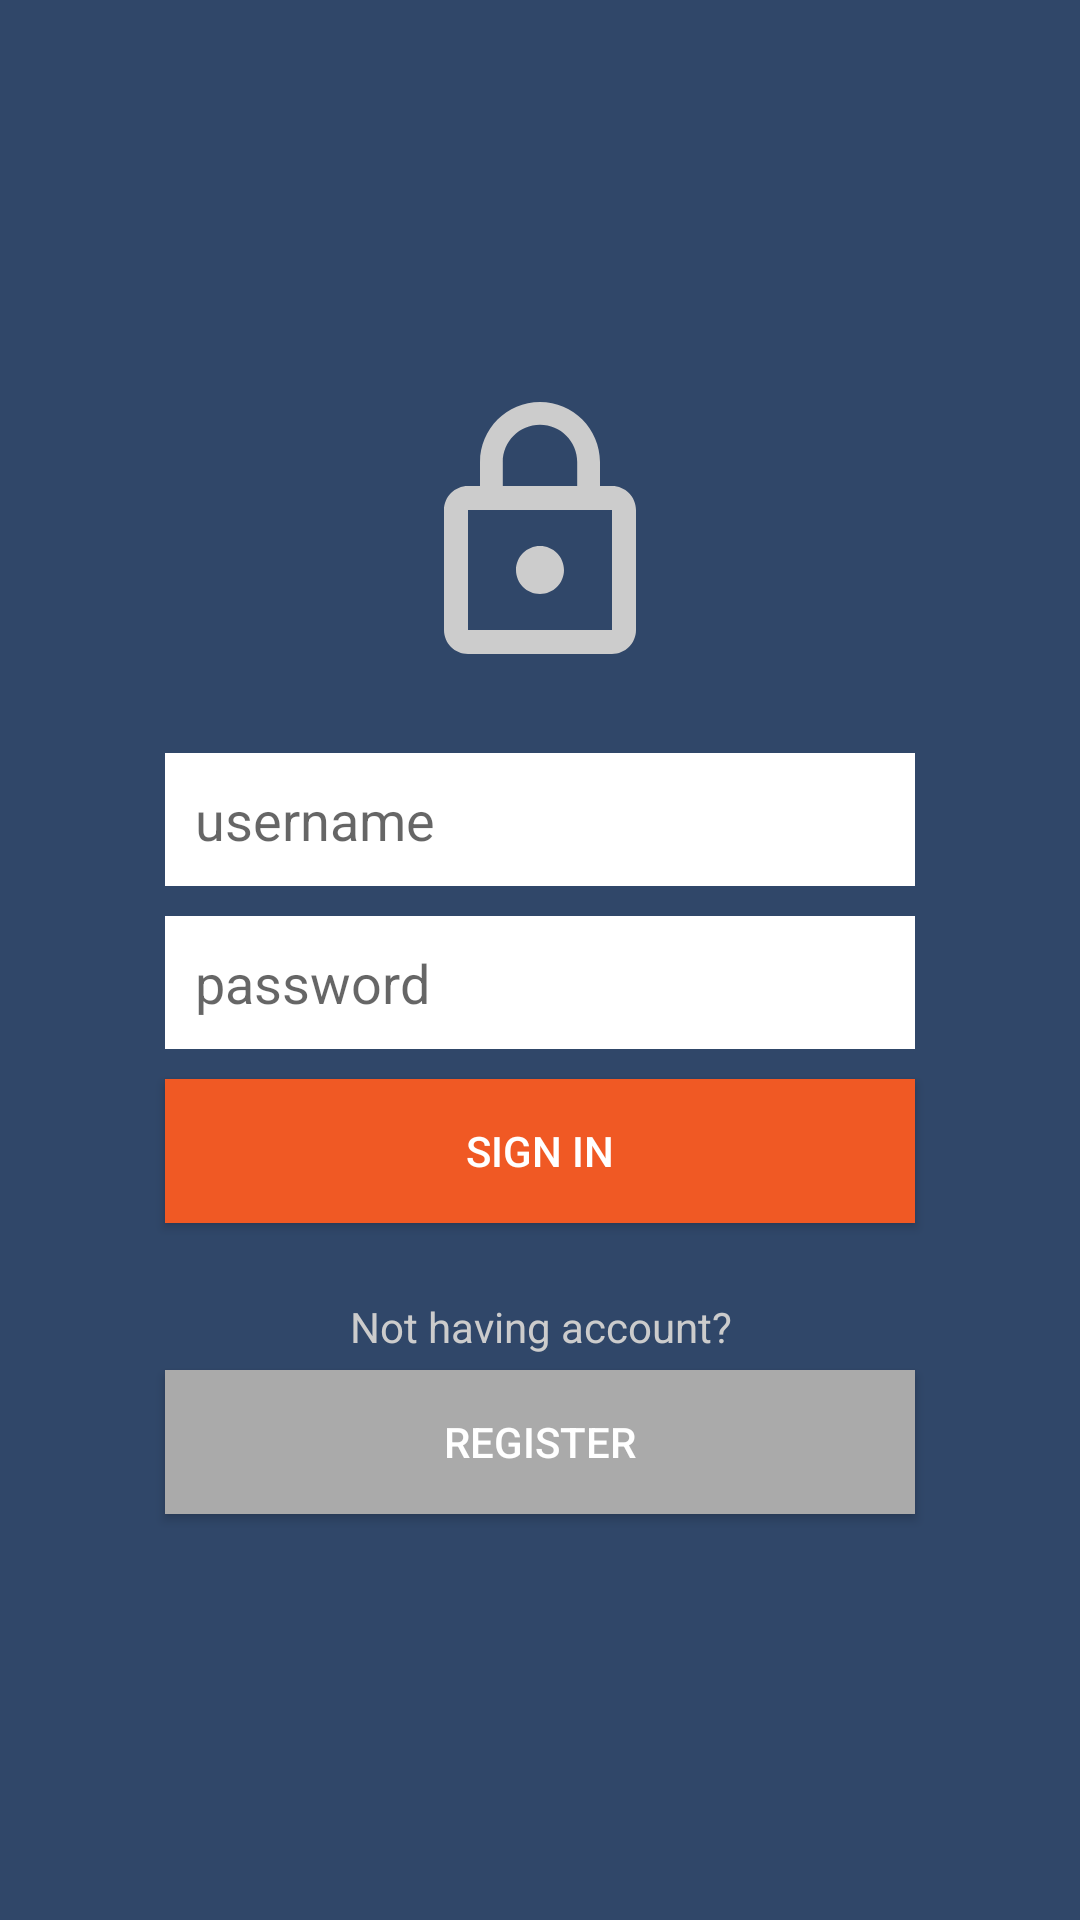

Where to tap for icons on this 1080w x 1920h app screen, as (x=x, y=y):
lock: (x=540, y=528)
